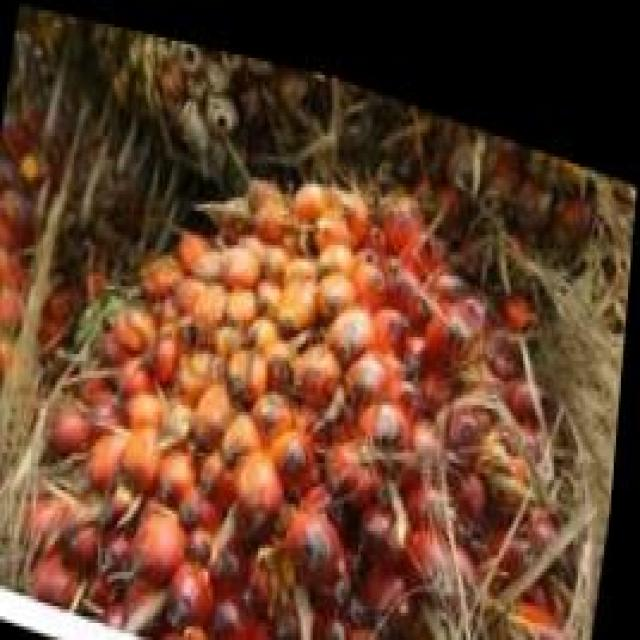Ripefruit: (25, 64, 617, 640)
